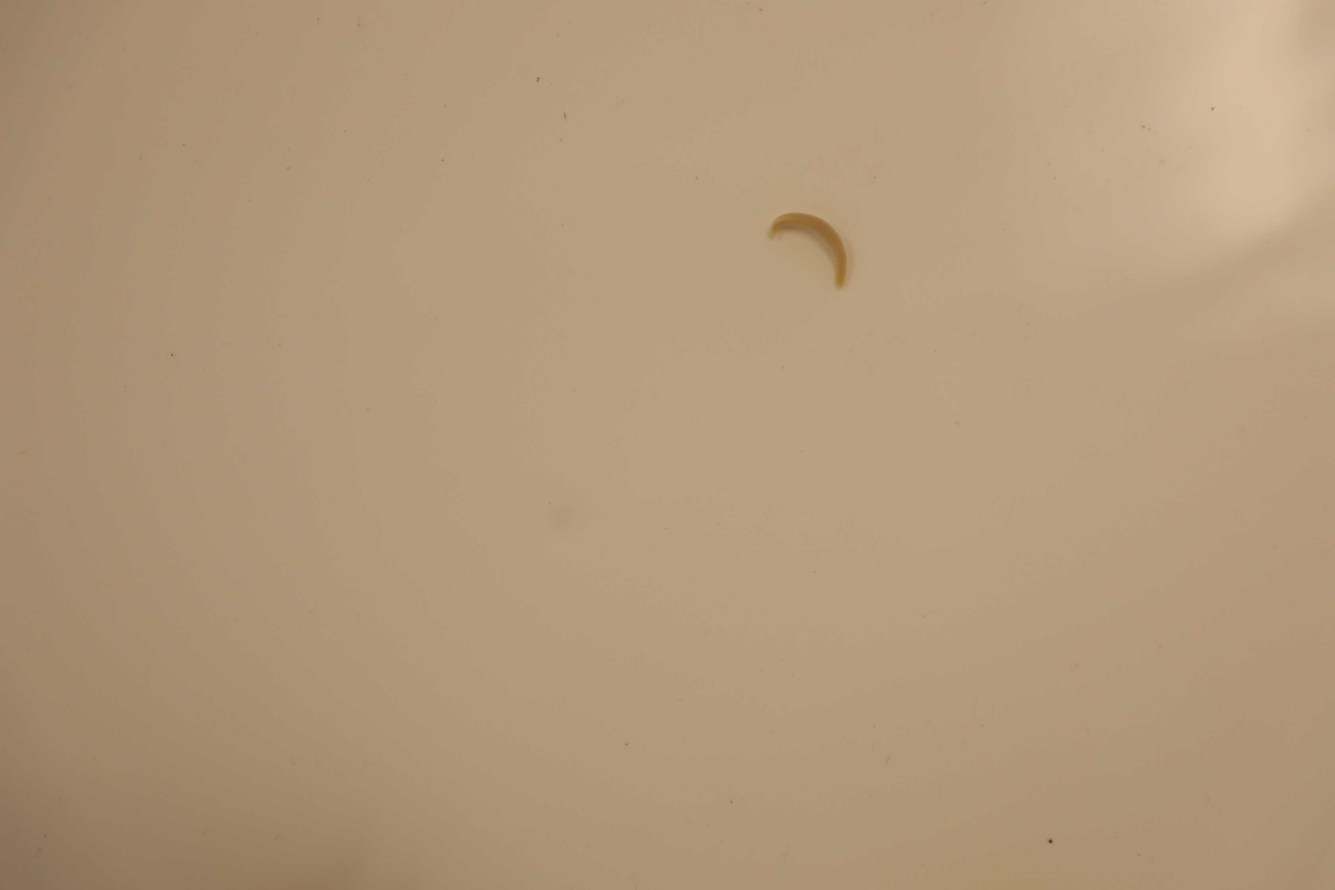Cadisfly: (771, 210, 847, 291)
